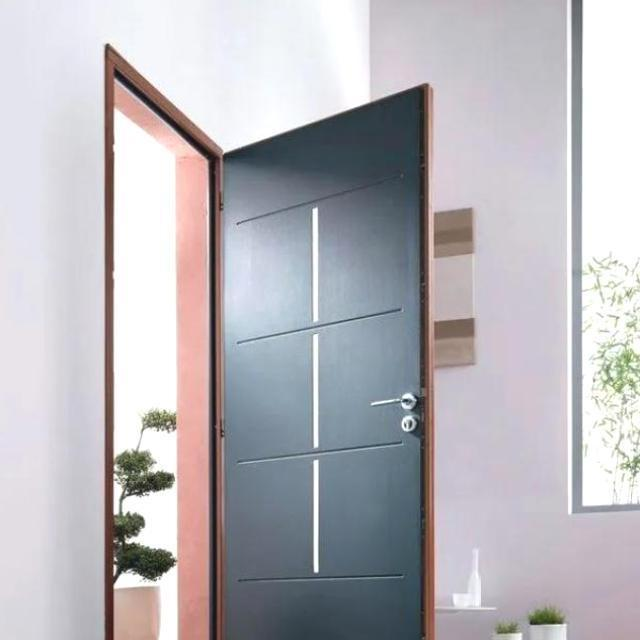door: (216, 83, 430, 638)
